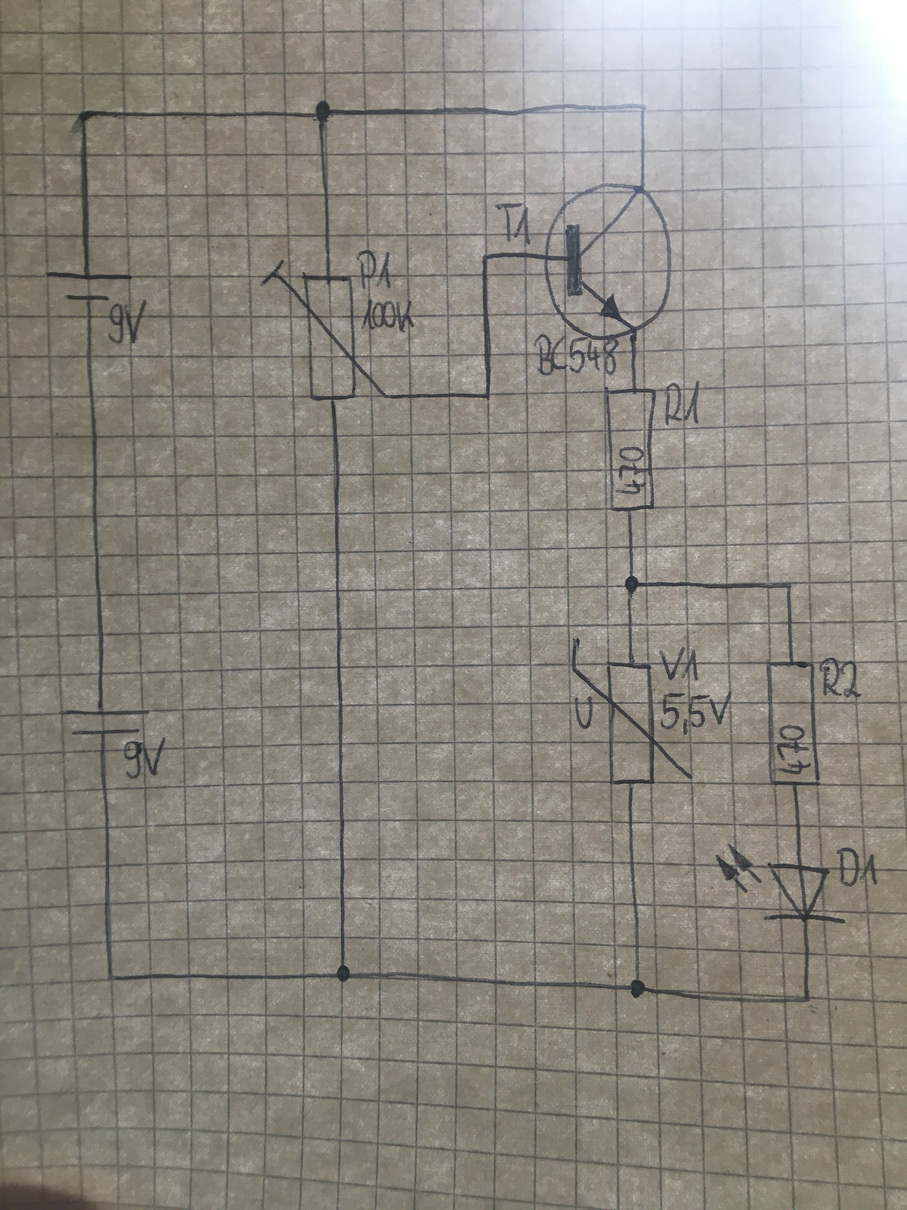diode.light_emitting: (715, 842, 848, 928)
junction: (313, 98, 335, 124), (334, 963, 354, 986), (629, 976, 647, 1000), (74, 104, 94, 125), (623, 573, 640, 595), (632, 99, 652, 117), (479, 250, 495, 267), (780, 577, 796, 593), (479, 389, 496, 402), (799, 991, 813, 1006), (103, 969, 117, 984)
resistor: (763, 656, 824, 789), (601, 381, 660, 517)
resistor.adjustable: (258, 258, 391, 404)
text: (532, 332, 620, 377), (659, 690, 733, 736), (120, 736, 170, 781), (773, 722, 813, 777), (105, 298, 150, 346), (662, 378, 705, 428), (359, 297, 416, 334), (835, 845, 881, 890), (818, 655, 863, 700), (494, 200, 533, 247), (614, 445, 648, 498), (657, 643, 702, 683), (355, 247, 395, 290), (571, 693, 596, 731)
transistor: (542, 179, 676, 341)
varistor: (568, 634, 695, 788)
voltage.dc: (43, 267, 135, 304), (57, 705, 154, 738)
